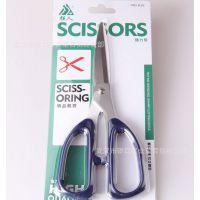scissor: (57, 23, 146, 198)
